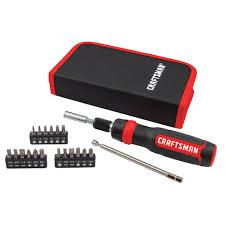screwdriver: (61, 110, 216, 166), (31, 147, 37, 156), (5, 148, 10, 158), (18, 148, 24, 156), (39, 148, 44, 157), (48, 125, 53, 134), (81, 147, 86, 155), (62, 148, 66, 157), (69, 147, 73, 156), (75, 147, 79, 156), (88, 147, 92, 155), (25, 149, 30, 155), (13, 148, 16, 157), (37, 125, 40, 134), (55, 124, 58, 132), (61, 124, 64, 132), (56, 147, 59, 154), (43, 125, 46, 132), (31, 125, 34, 131)
